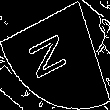N_E: (31, 27, 79, 83)
